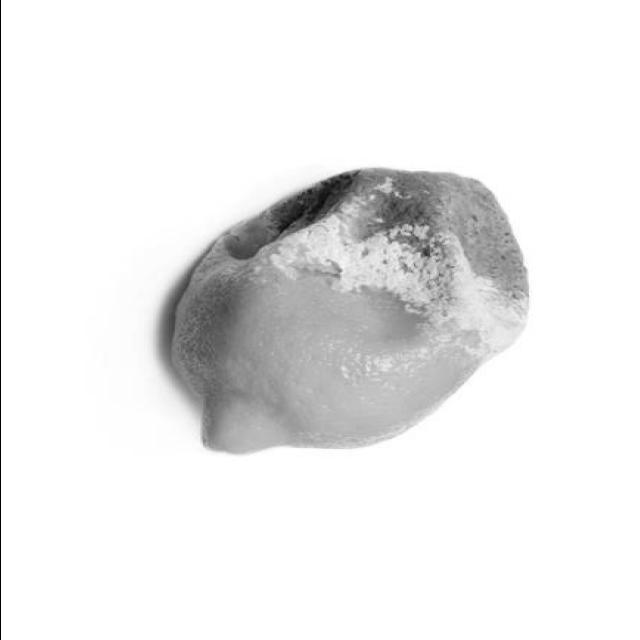Rotten: (168, 168, 526, 454)
